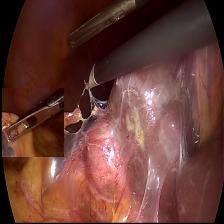Grasper: (2, 88, 64, 157), (62, 0, 136, 50)
Hook: (82, 58, 102, 106)
